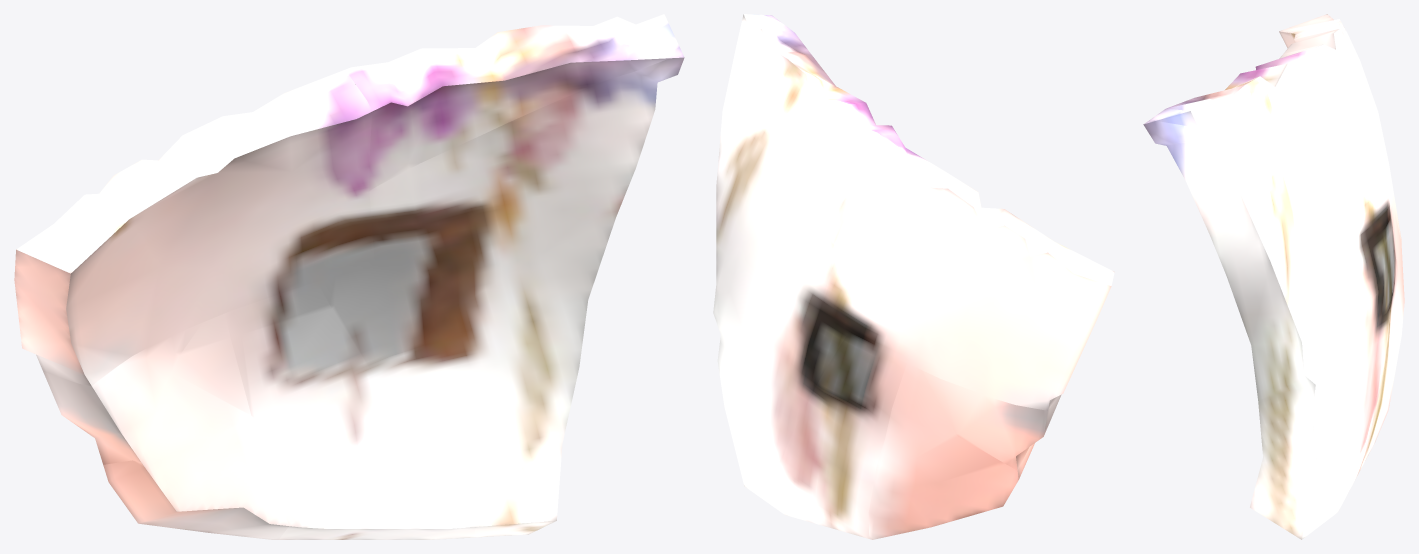
The model's file is Ceramic_001.gltf.
3 renders of one model, left to right at view 1: azimuth 30°, elevation 25°; view 2: azimuth 150°, elevation 25°; view 3: azimuth 270°, elevation 25°, orthographic. The views are drawn at different scales.
Parts seen in each view (by area): view 1: Ceramic_001.002, Ceramic_001.004, Ceramic_001.001, Ceramic_001.005, Ceramic_001.003, Ceramic_001; view 2: Ceramic_001.004, Ceramic_001.002, Ceramic_001.001, Ceramic_001.005, Ceramic_001.003, Ceramic_001; view 3: Ceramic_001.002, Ceramic_001.005, Ceramic_001.004, Ceramic_001.001, Ceramic_001.003.
Part boxes in pixels (x1,y1,x2,y2): Ceramic_001.002: [317, 46, 684, 537]; Ceramic_001.004: [14, 70, 374, 385]; Ceramic_001.001: [225, 282, 475, 539]; Ceramic_001.005: [345, 14, 678, 190]; Ceramic_001.003: [103, 313, 288, 539]; Ceramic_001: [43, 322, 202, 464]; Ceramic_001.004: [819, 134, 1114, 410]; Ceramic_001.002: [713, 15, 847, 501]; Ceramic_001.001: [767, 334, 906, 538]; Ceramic_001.005: [739, 14, 898, 246]; Ceramic_001.003: [868, 363, 1034, 539]; Ceramic_001: [922, 370, 1061, 470]; Ceramic_001.002: [1143, 120, 1386, 539]; Ceramic_001.005: [1149, 50, 1355, 168]; Ceramic_001.004: [1277, 14, 1394, 242]; Ceramic_001.001: [1322, 214, 1397, 523]; Ceramic_001.003: [1374, 207, 1404, 444].
Size of the model in its own units: 0.107 by 0.1004 by 0.0518.
1 material, 1 textured.
